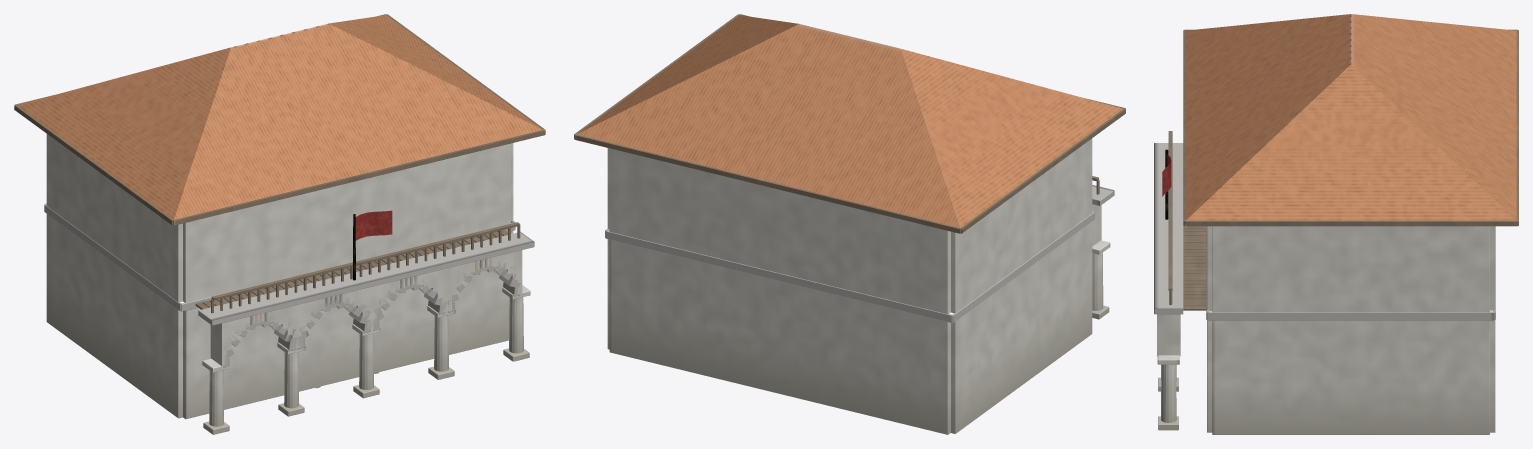
The model's file is townhall_magistrate.glb.
3 renders of one model, left to right at view 1: azimuth 30°, elevation 25°; view 2: azimuth 150°, elevation 25°; view 3: azimuth 270°, elevation 25°, orthographic. The views are drawn at different scales.
Parts seen in each view (by area): view 1: HallA_opaque; view 2: HallA_opaque; view 3: HallA_opaque.
Boxes of the visible parts, x1,y1,x2,y2 form: HallA_opaque: [14, 14, 545, 434]; HallA_opaque: [574, 14, 1125, 434]; HallA_opaque: [1154, 14, 1518, 434].
Bounding box in the file's own units: 11.46 × 8.67 × 9.2.
2 materials, 1 textured.
